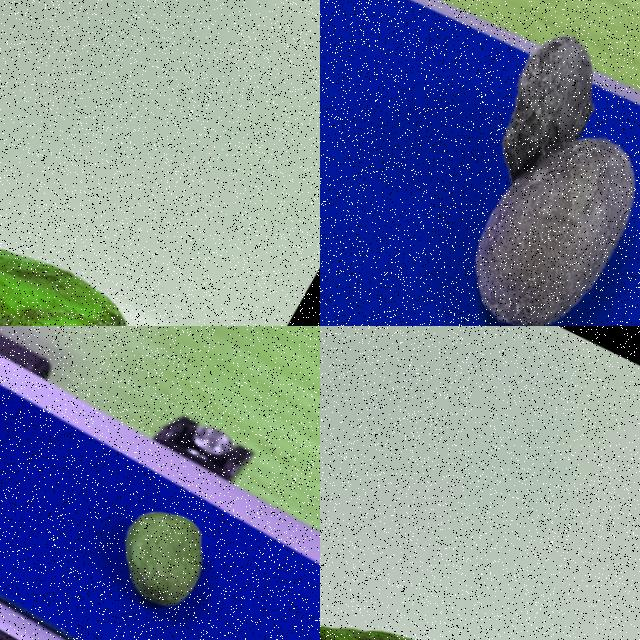Agglomerated_cocoabeans: (322, 0, 639, 325), (320, 453, 639, 639)
Fine_cocoabeans: (0, 431, 301, 639), (0, 77, 228, 325)
